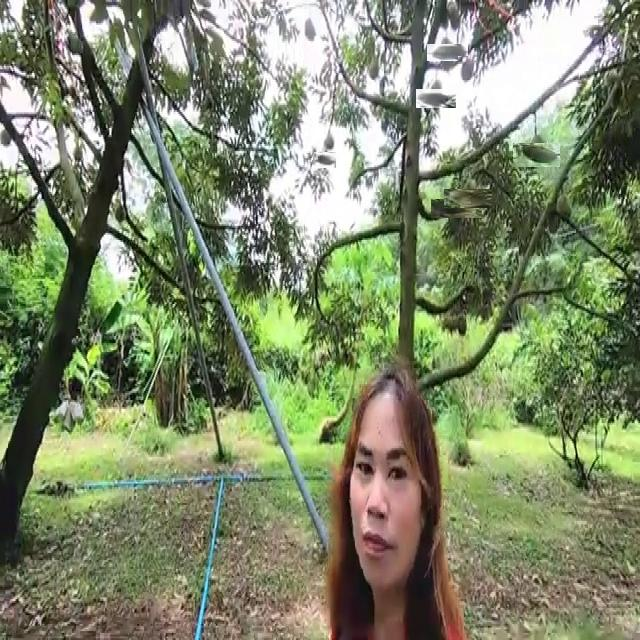durian: (518, 137, 554, 173), (439, 191, 474, 227), (451, 181, 485, 215), (421, 83, 451, 113), (433, 38, 462, 67), (458, 56, 476, 84), (314, 150, 334, 170)
